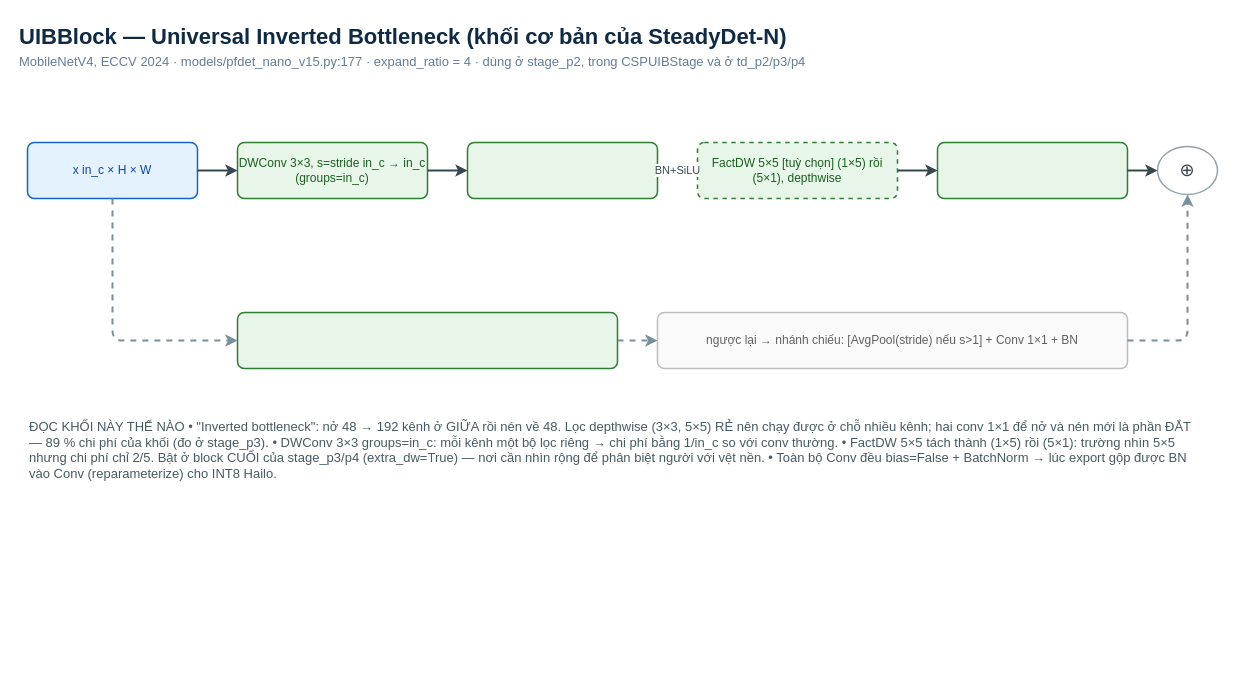
The diagram is 1235 pixels wide and 689 high, and some of its shapes have lost their labels. Each missing label, with the centre of its shape:
"PWConv 1×1 4·in_c → out_c (nén)" belongs at pixel 1032 170.
"PWConv 1×1 in_c → 4·in_c (nở)" belongs at pixel 562 170.
"stride = 1 và in_c = out_c → nối tắt THẲNG (identity), không tốn gì" belongs at pixel 427 340.
